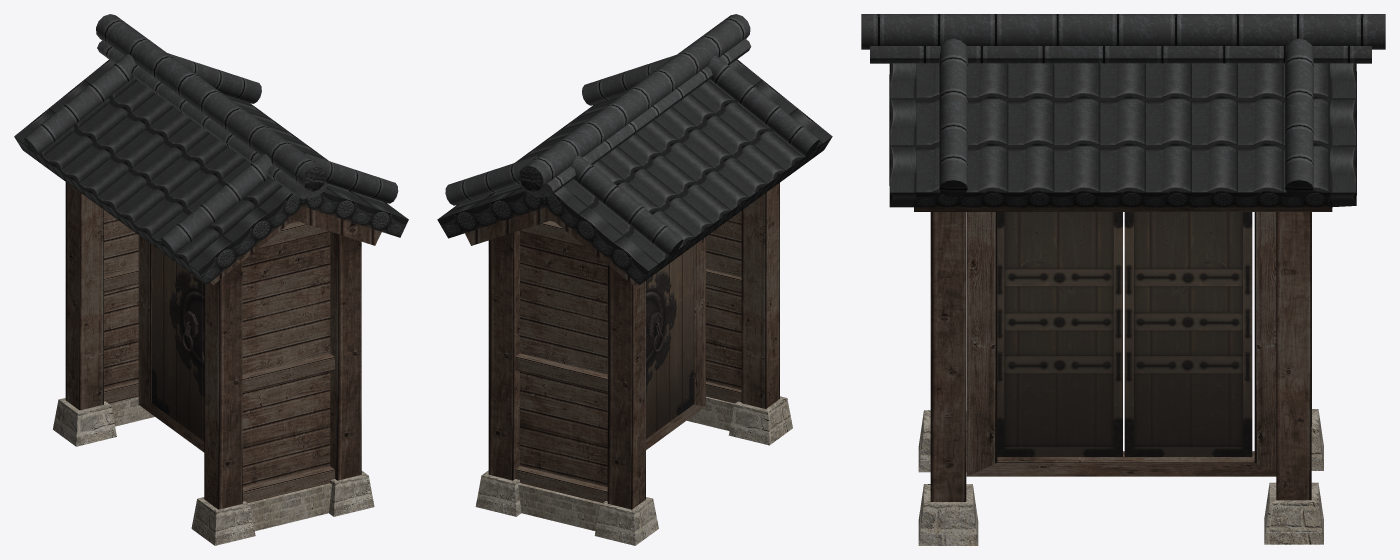
The model's file is KoreanMansion_Gate.FBX.
3 renders of one model, left to right at view 1: azimuth 30°, elevation 25°; view 2: azimuth 150°, elevation 25°; view 3: azimuth 270°, elevation 25°, orthographic. The views are drawn at different scales.
Parts seen in each view (by area): view 1: KoreanMansion_Gate; view 2: KoreanMansion_Gate; view 3: KoreanMansion_Gate.
Boxes of the visible parts, x1,y1,x2,y2 form: KoreanMansion_Gate: [14, 14, 408, 545]; KoreanMansion_Gate: [437, 14, 832, 545]; KoreanMansion_Gate: [861, 14, 1385, 545].
Size of the model in its own units: 209 by 324 by 321.
